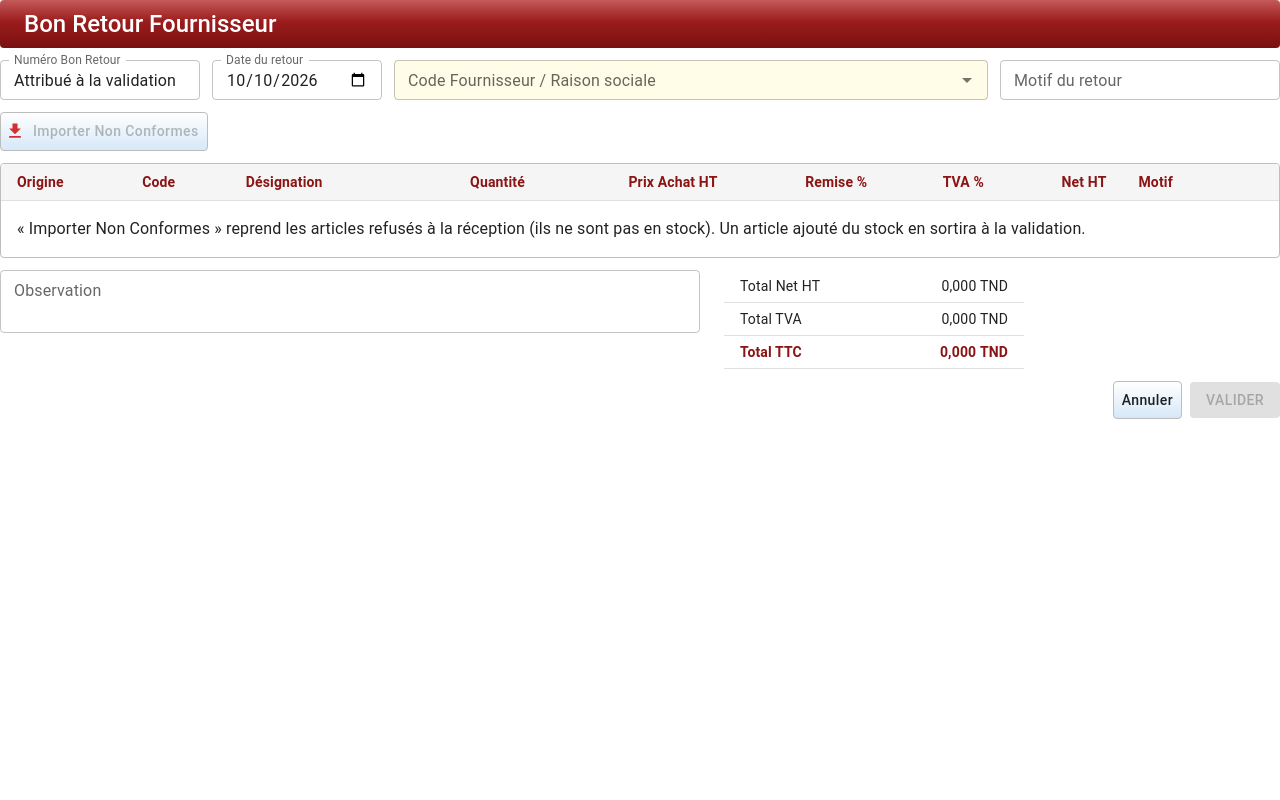
Test case: renvoie au fournisseur un article non conforme reçu au dépôt
In the dropdown labelled "Code Fournisseur / Raison sociale": (674, 80) [400,66,949,94], type "25"
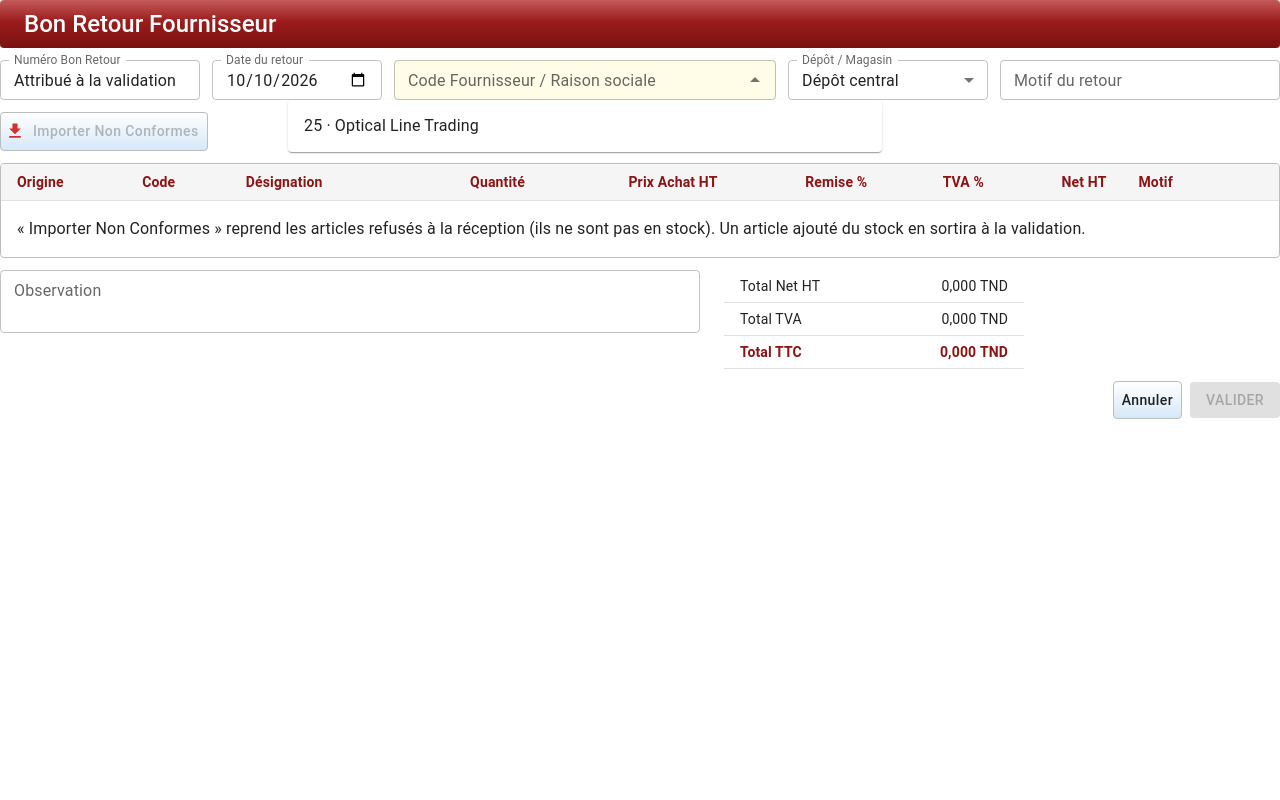
Click the option "25 · Optical Line Trading": (391, 126) [304,116,479,135]
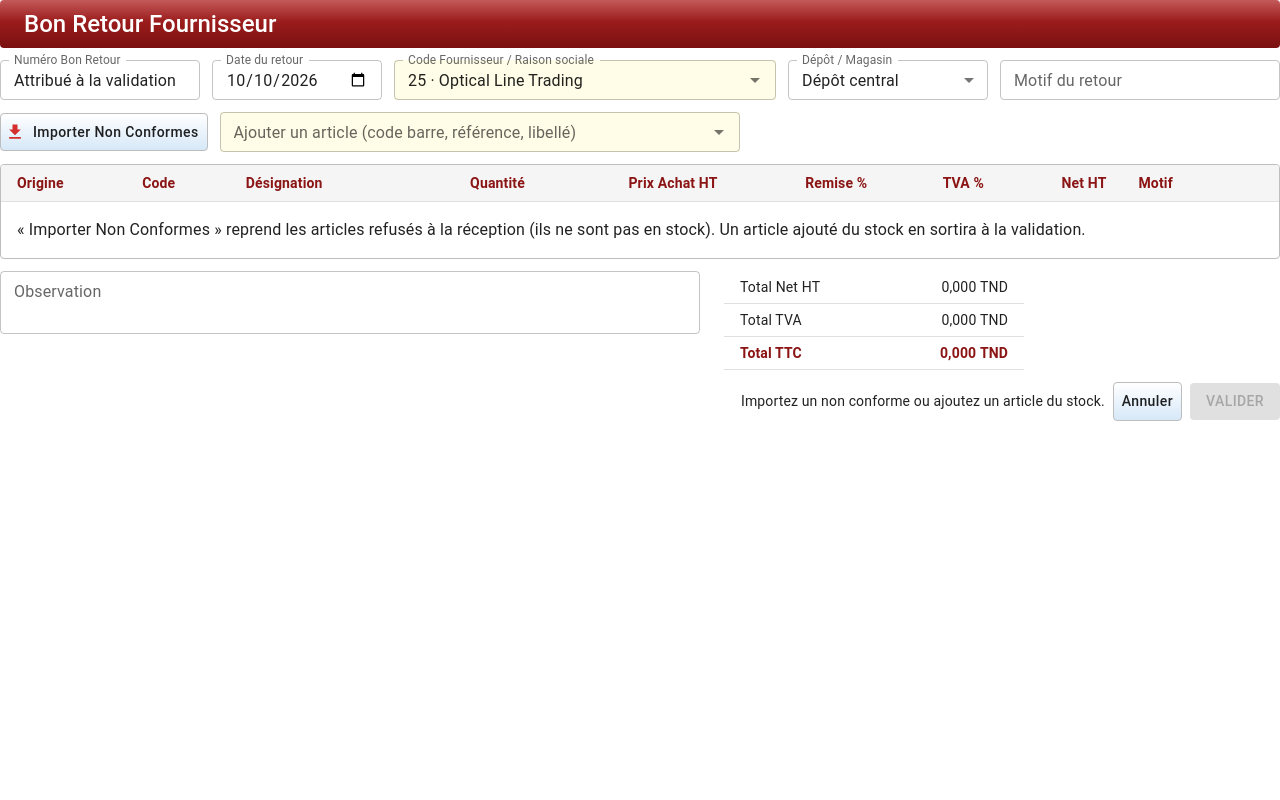
Click the button "Importer Non Conformes": (104, 132) [0,113,208,151]
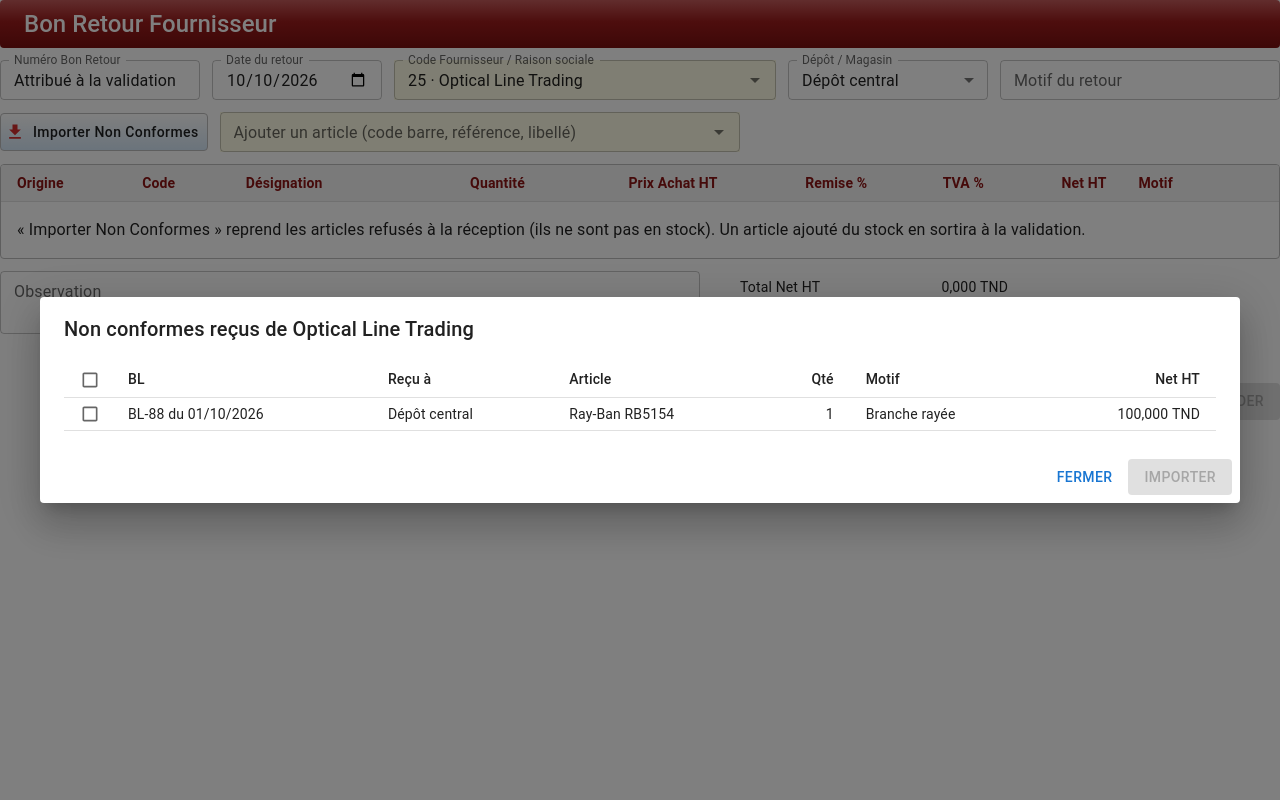
Click the checkbox named "Tout choisir": (90, 380) [80,370,100,390]
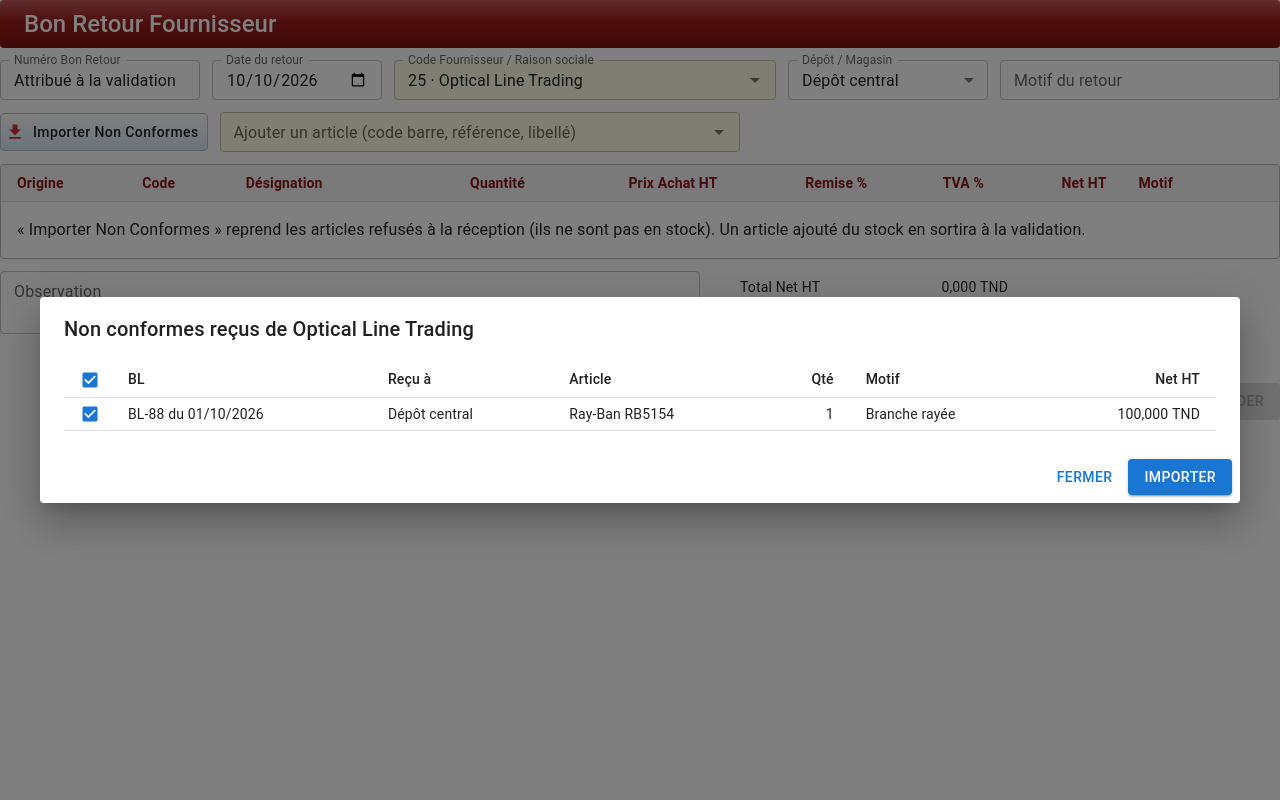
Click the button "Importer": (1180, 477) [1128,459,1232,495]
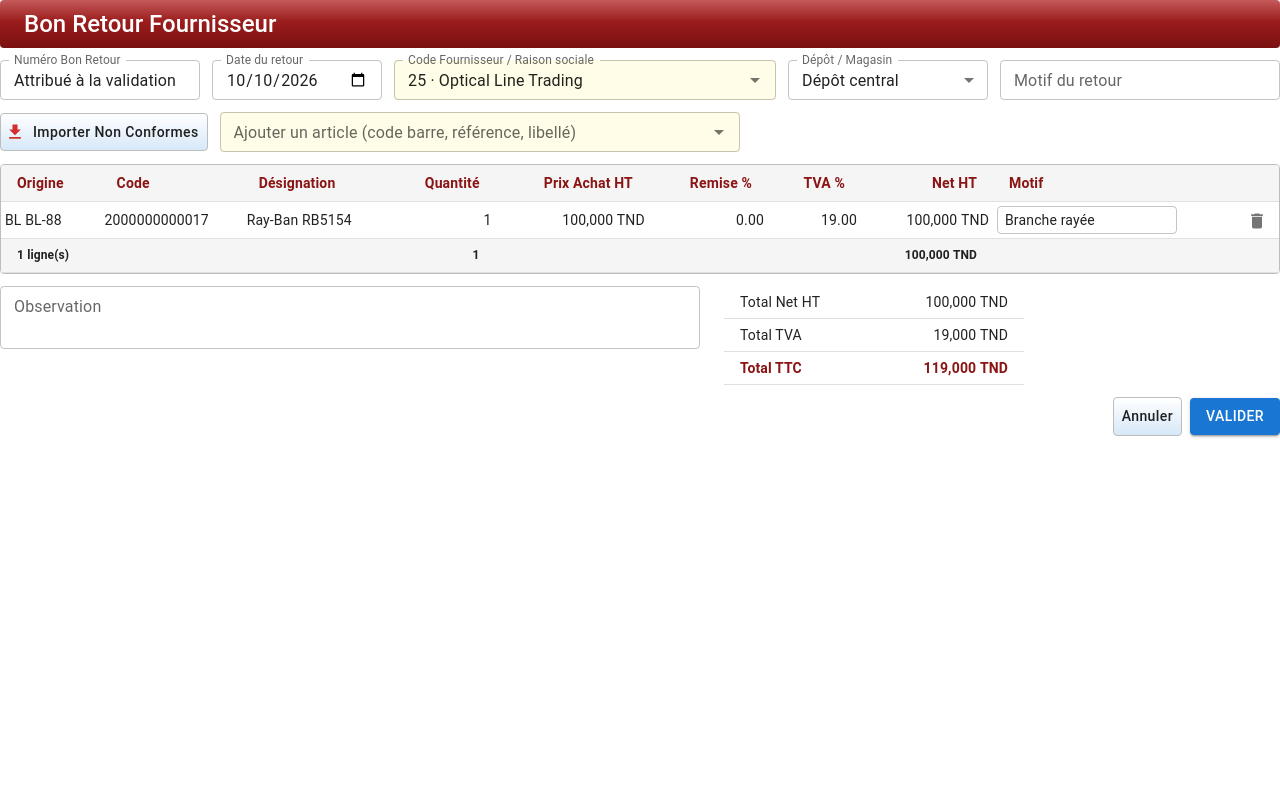
Expected: the text "BL BL-88" is shown, [1,202,101,239]
Expected: the text "119,000 TND" is shown, [871,352,1024,385]
Click the button "Valider": (1235, 416) [1190,398,1279,435]
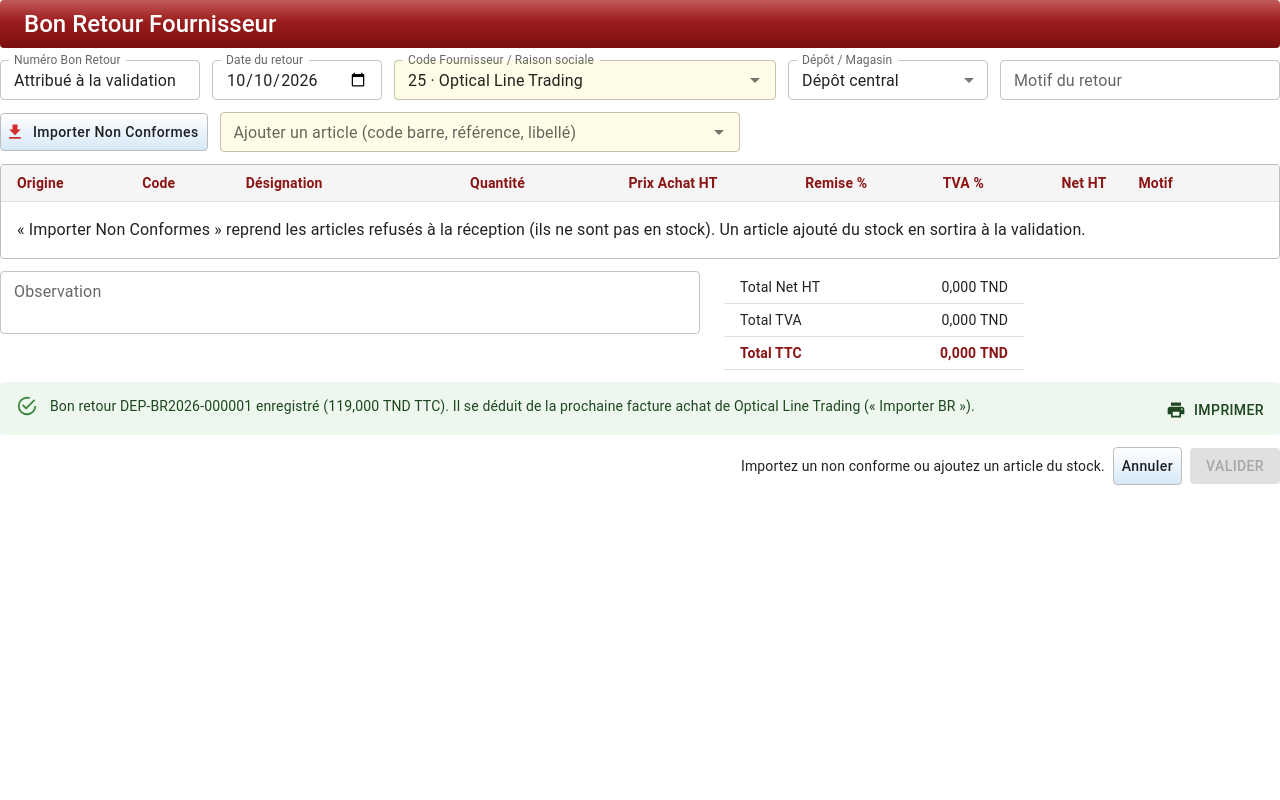
Expected: the text "Bon retour DEP-BR2026-000001 enregistré" is shown, [50,398,975,414]
